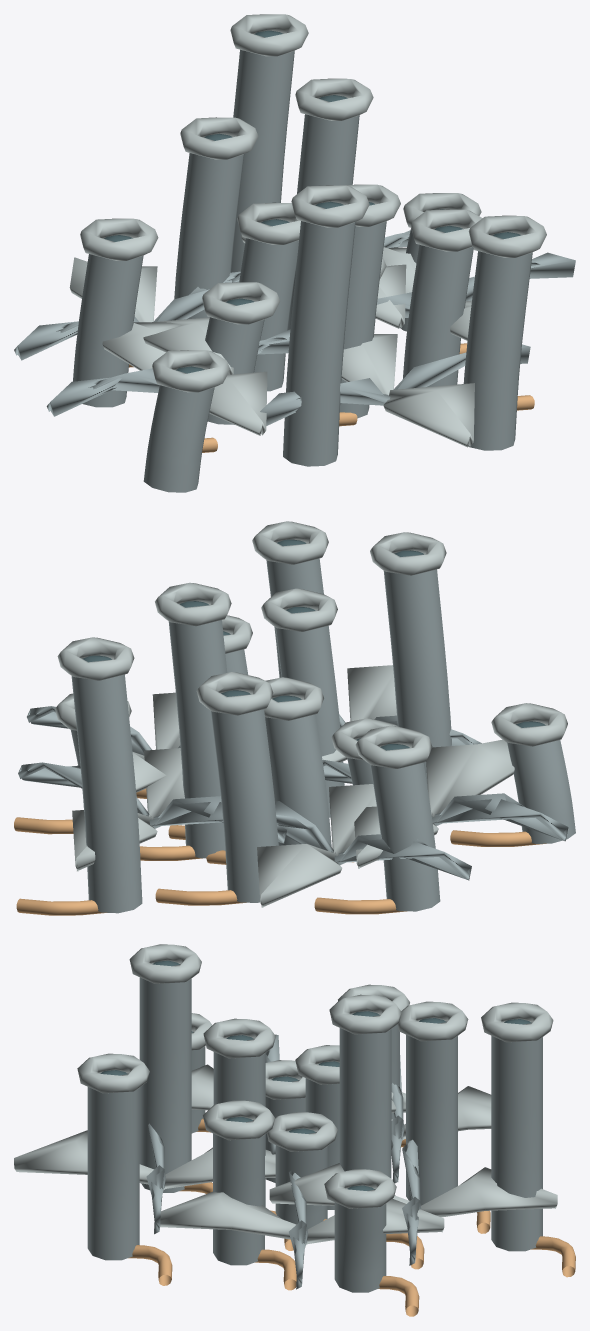
File: bio_thermal_colony_20_far.glb
The picture shows the model from 3 angles, top to bottom: view 1: azimuth 30°, elevation 25°; view 2: azimuth 150°, elevation 25°; view 3: azimuth 270°, elevation 25°; orthographic projection. The views are drawn at different scales.
Parts seen in each view (by area): view 1: Chimney biofilm.007, Chimney biofilm.010, Chimney biofilm.011, Chimney biofilm.006, Chimney biofilm.009, Chimney biofilm.005, Low buttress leaf.009, Chimney biofilm.012, Low buttress leaf.017, Chimney biofilm.001, Chimney biofilm.002, Chimney biofilm.003 (+20 smaller); view 2: Chimney biofilm.011, Chimney biofilm.006, Chimney biofilm.007, Chimney biofilm.003, Chimney biofilm.009, Low buttress leaf.005, Low buttress leaf.017, Chimney biofilm.001, Chimney biofilm.012, Chimney biofilm.002, Low buttress leaf.016, Low buttress leaf.004 (+26 smaller); view 3: Chimney biofilm.011, Chimney biofilm.007, Chimney biofilm.010, Chimney biofilm.006, Chimney biofilm.003, Low buttress leaf.001, Chimney biofilm.005, Low buttress leaf.013, Chimney biofilm.008, Low buttress leaf.009, Chimney biofilm.002, Open vent rim.011 (+28 smaller).
Boxes of the visible parts, left/top/right/bottom form: Chimney biofilm.007: left=283, top=221, right=355, bottom=466; Chimney biofilm.010: left=463, top=251, right=532, bottom=450; Chimney biofilm.011: left=231, top=49, right=294, bottom=272; Chimney biofilm.006: left=174, top=153, right=244, bottom=319; Chimney biofilm.009: left=73, top=254, right=143, bottom=407; Chimney biofilm.005: left=403, top=244, right=473, bottom=386; Low buttress leaf.009: left=341, top=334, right=474, bottom=447; Chimney biofilm.012: left=143, top=385, right=214, bottom=492; Low buttress leaf.017: left=102, top=322, right=267, bottom=435; Chimney biofilm.001: left=239, top=238, right=298, bottom=391; Chimney biofilm.002: left=340, top=221, right=386, bottom=418; Chimney biofilm.003: left=288, top=114, right=359, bottom=329; Chimney biofilm.011: left=71, top=658, right=142, bottom=913; Chimney biofilm.006: left=211, top=709, right=278, bottom=902; Chimney biofilm.007: left=383, top=553, right=451, bottom=787; Chimney biofilm.003: left=168, top=601, right=227, bottom=858; Chimney biofilm.009: left=370, top=746, right=440, bottom=911; Low buttress leaf.005: left=257, top=784, right=376, bottom=907; Low buttress leaf.017: left=354, top=739, right=514, bottom=868; Chimney biofilm.001: left=265, top=698, right=331, bottom=846; Chimney biofilm.012: left=507, top=740, right=575, bottom=843; Chimney biofilm.002: left=275, top=609, right=344, bottom=817; Low buttress leaf.016: left=322, top=759, right=568, bottom=841; Low buttress leaf.004: left=275, top=801, right=471, bottom=880; Chimney biofilm.011: left=491, top=1022, right=542, bottom=1251; Chimney biofilm.007: left=139, top=964, right=191, bottom=1192; Chimney biofilm.010: left=87, top=1073, right=139, bottom=1260; Chimney biofilm.006: left=406, top=1021, right=457, bottom=1205; Chimney biofilm.003: left=339, top=1015, right=391, bottom=1178; Low buttress leaf.001: left=160, top=1191, right=444, bottom=1244; Chimney biofilm.005: left=213, top=1120, right=264, bottom=1265; Low buttress leaf.013: left=269, top=1163, right=557, bottom=1217; Chimney biofilm.008: left=334, top=1189, right=386, bottom=1292; Low buttress leaf.009: left=14, top=1130, right=275, bottom=1189; Chimney biofilm.002: left=213, top=1038, right=265, bottom=1206; Open vent rim.011: left=481, top=1002, right=553, bottom=1042.
Bounding box in the file's own units: 2.22 × 1.03 × 2.16.
